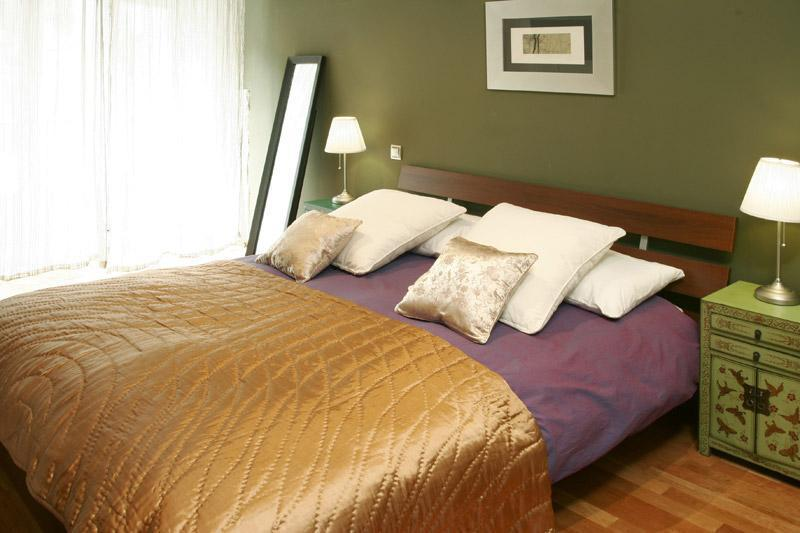Cama: (7, 194, 727, 519)
